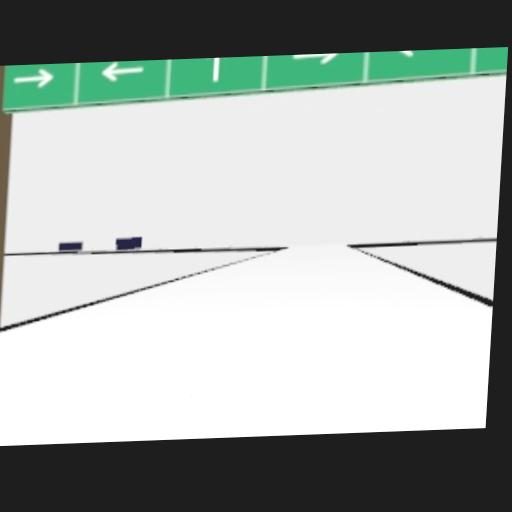Left: (98, 59, 144, 80), (393, 48, 445, 57)
Right: (12, 66, 56, 87), (293, 52, 339, 64)
Straight: (203, 56, 228, 79)
